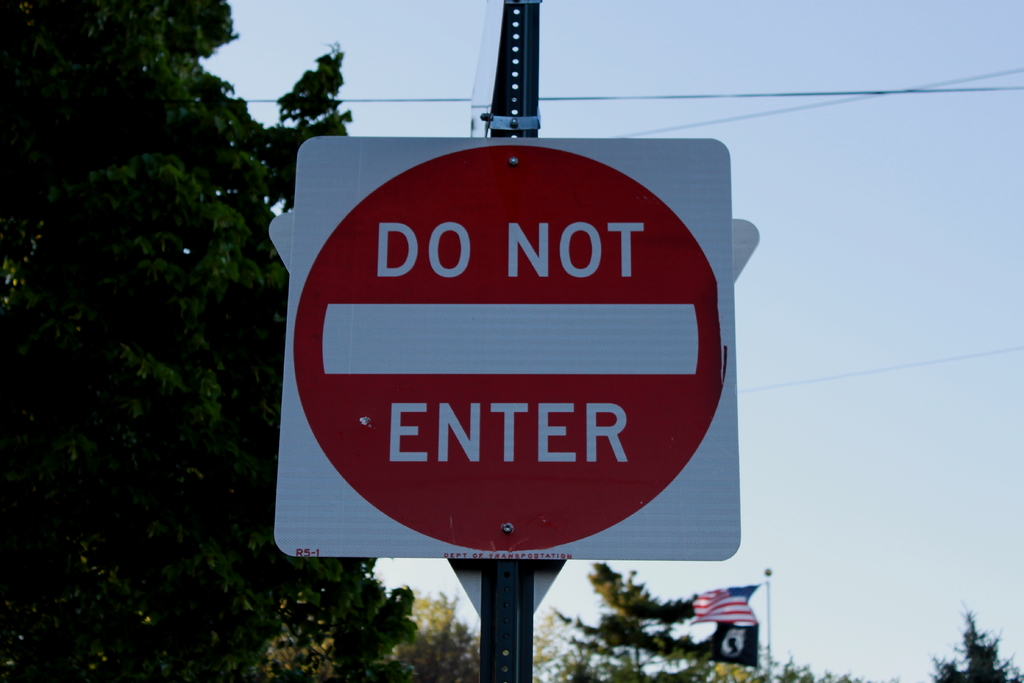Tree: (0, 0, 423, 681), (396, 561, 863, 683), (928, 598, 1024, 682)
